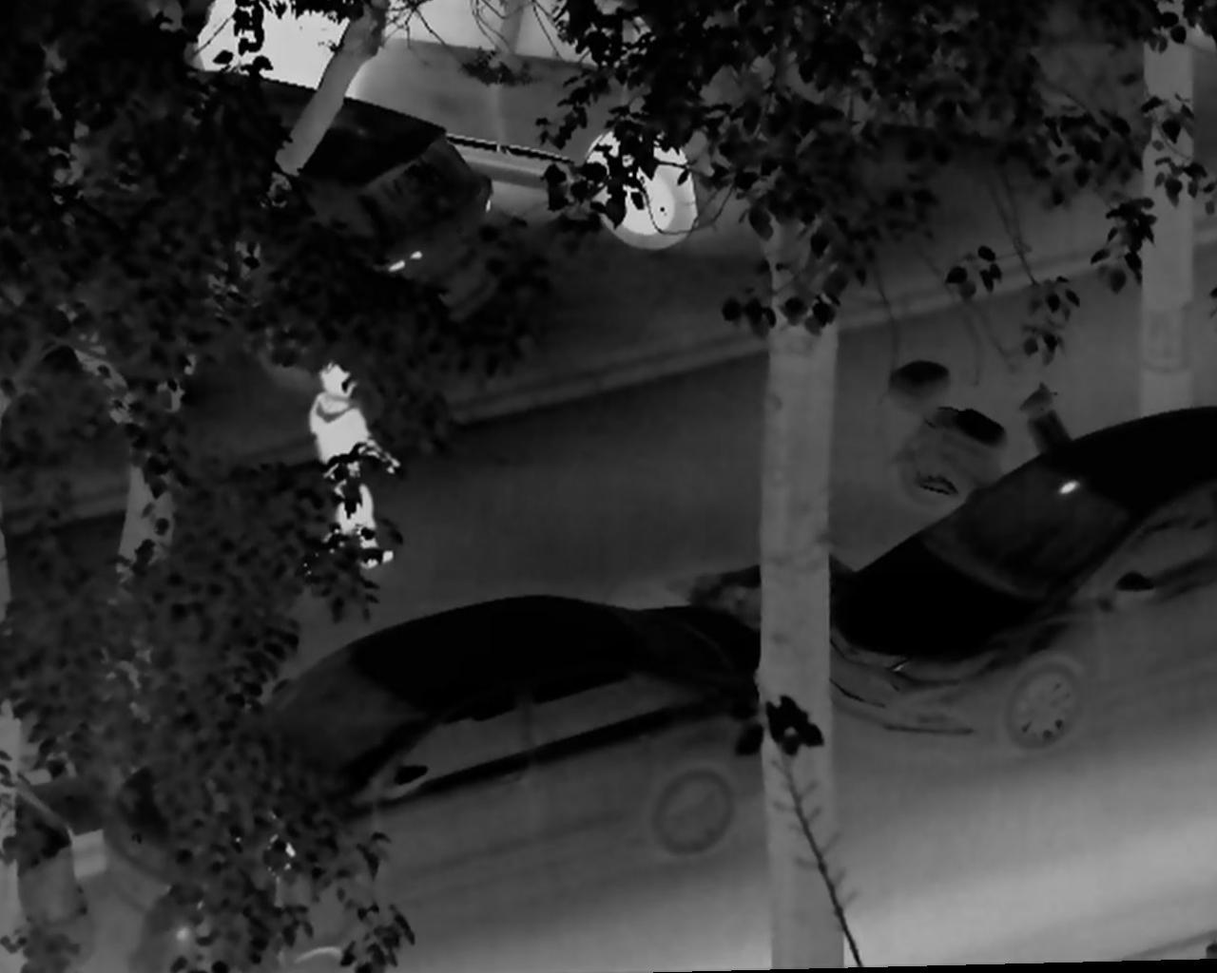person: (289, 353, 404, 580)
